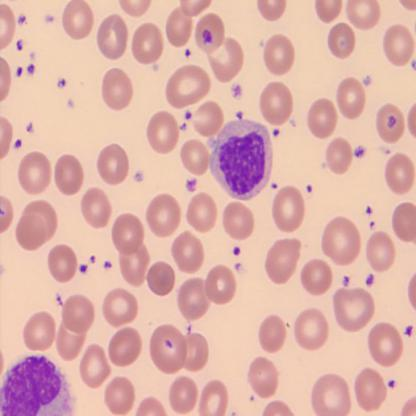Metamyelocyte: (206, 118, 275, 202)
